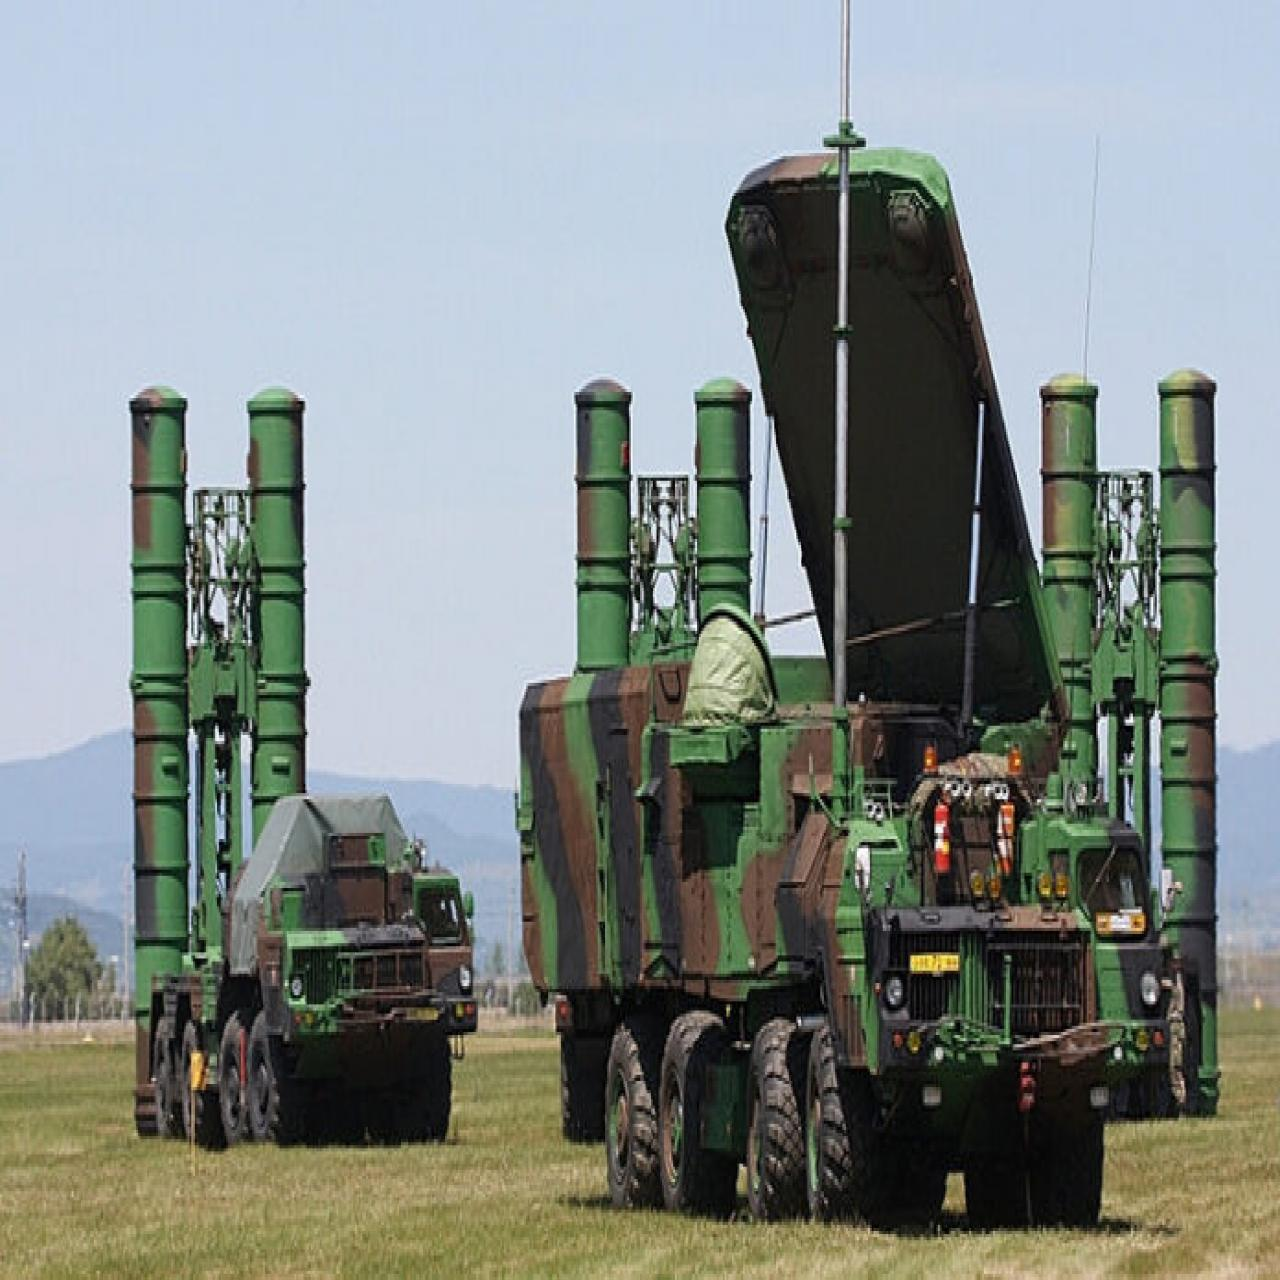MIL_Veh: (124, 383, 476, 1164), (1043, 369, 1218, 1094), (576, 388, 763, 685)
